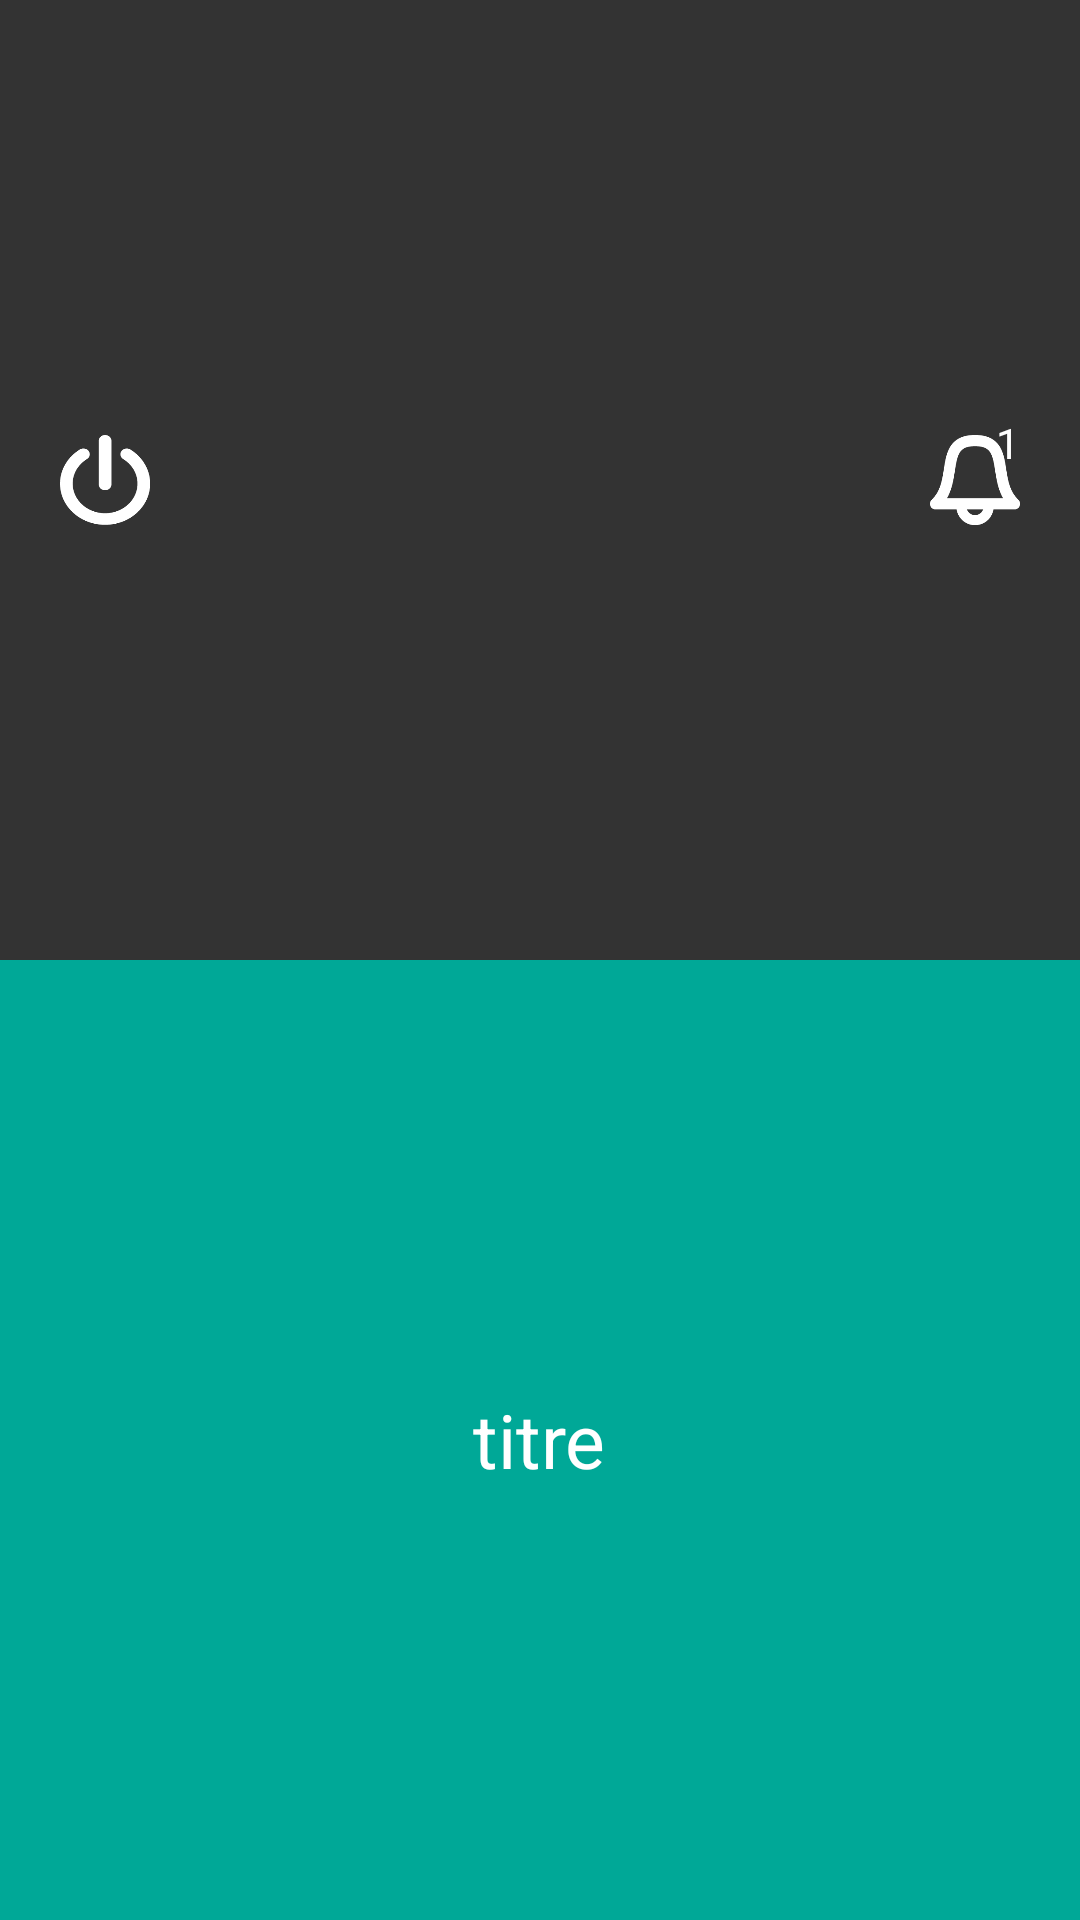

Icon click points for this 1080*1920 phone screenshot, format (x,y):
deconnexion: (105,480)
notif: (975,480)
